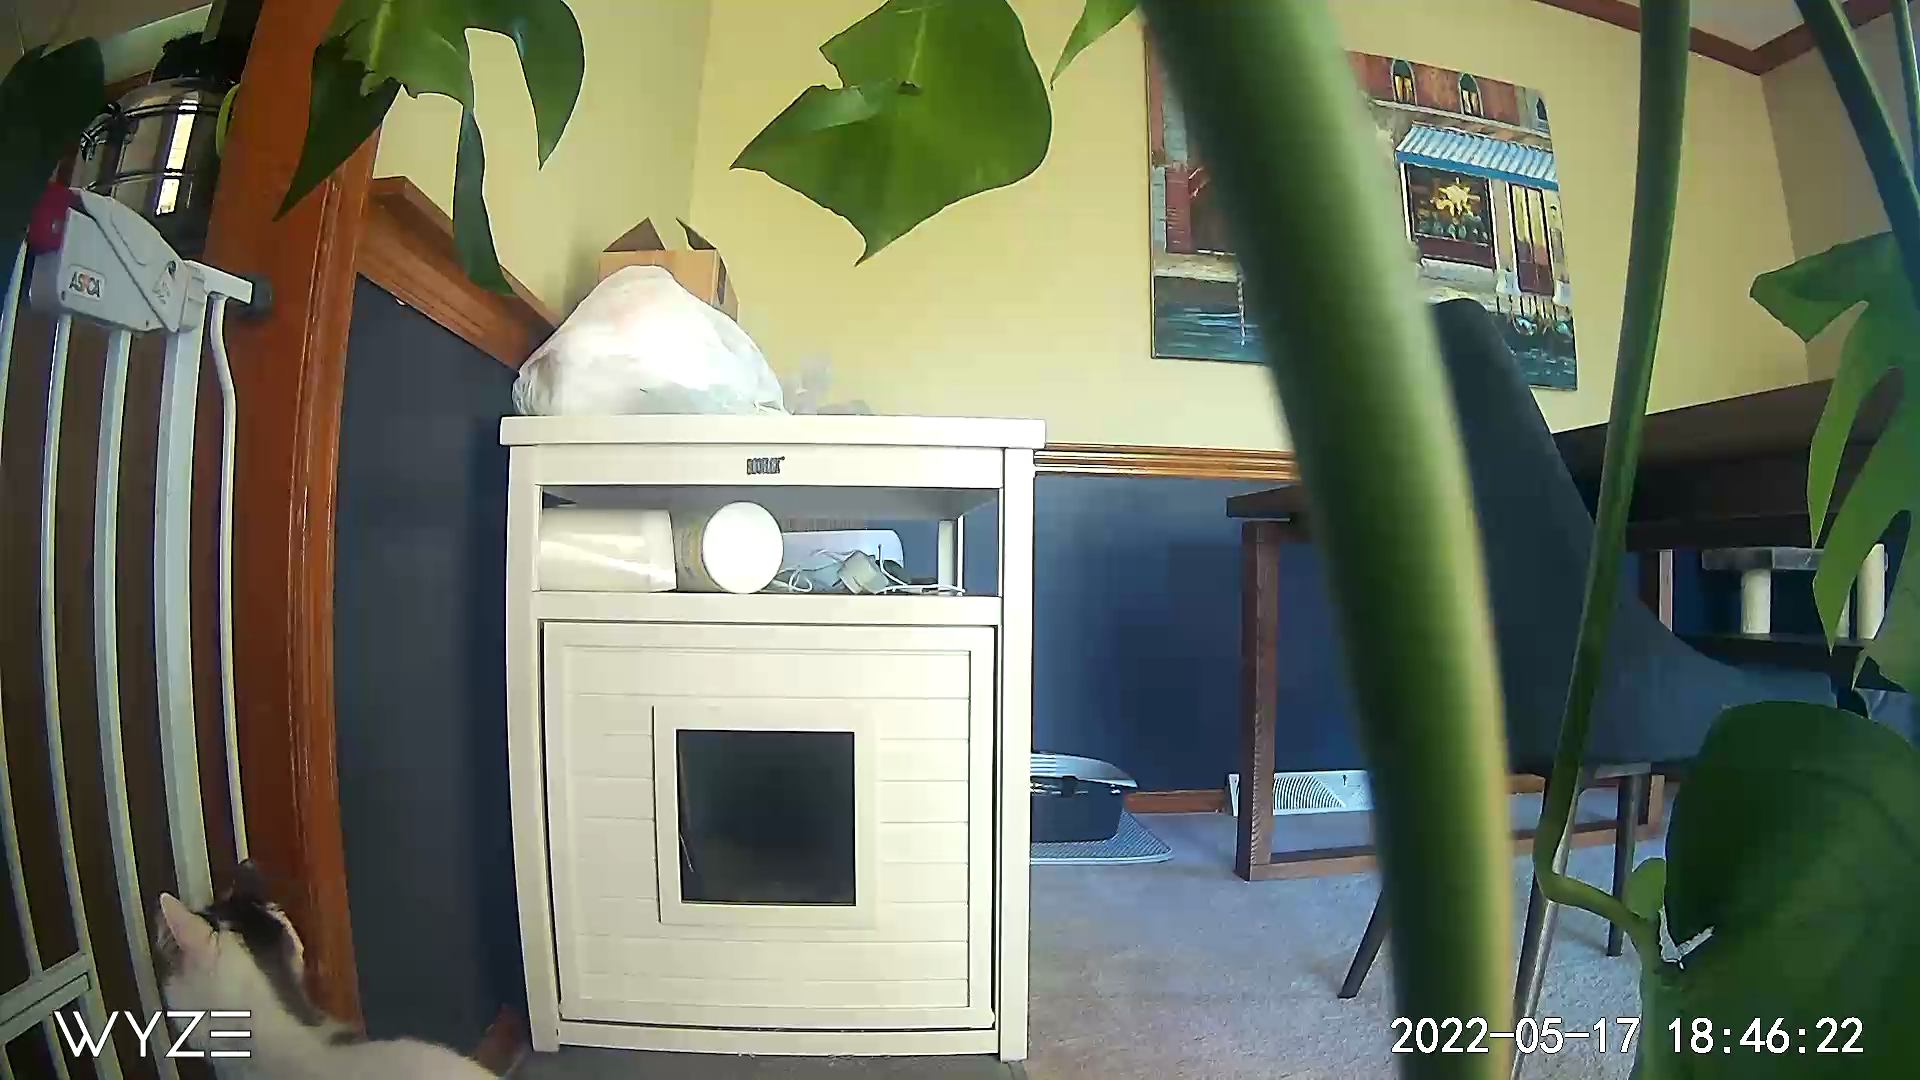maoxin: (127, 887, 320, 996)
